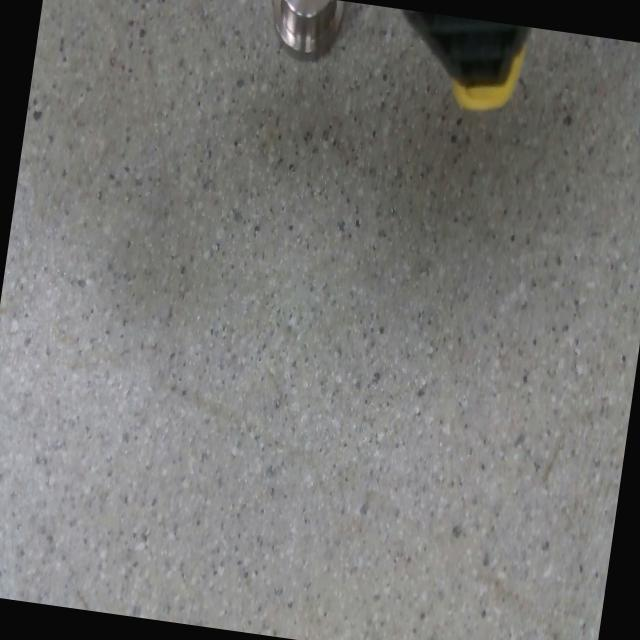sensor: (262, 0, 349, 68)
